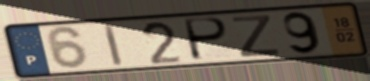2: (139, 19, 184, 66)
6: (44, 24, 93, 72)
9: (281, 10, 324, 56)
I: (101, 22, 126, 68)
P: (184, 16, 231, 63)
Z: (229, 13, 282, 59)
